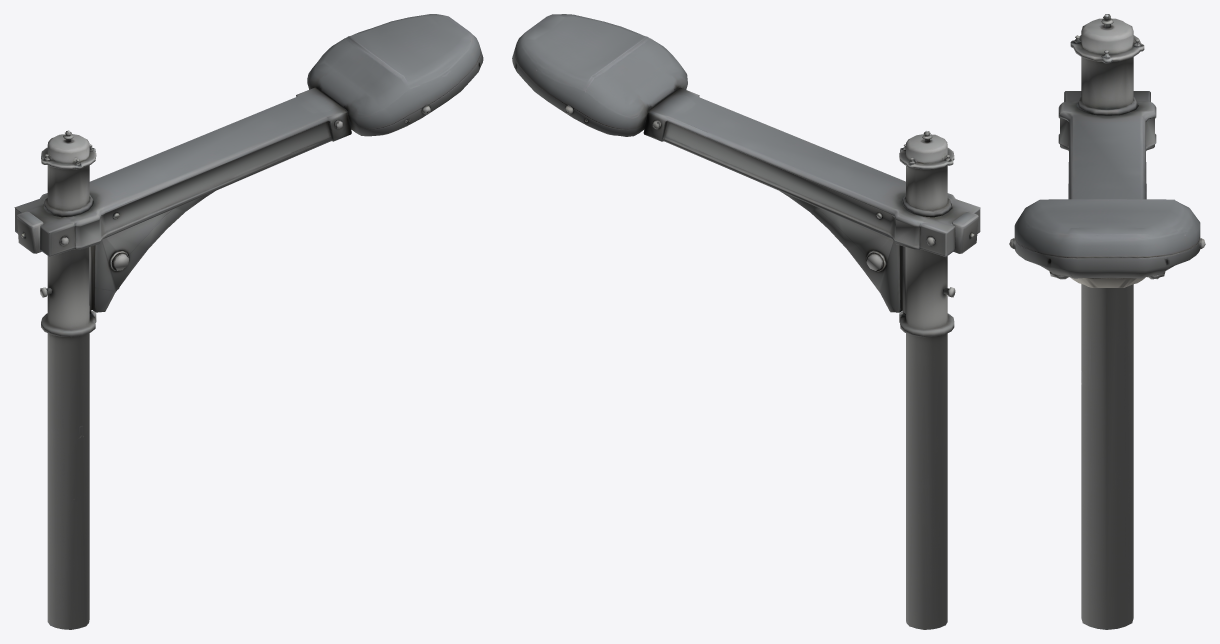
File: streetlight.glb
3 views of the same model, side by side, from view 1: azimuth 30°, elevation 25°; view 2: azimuth 150°, elevation 25°; view 3: azimuth 270°, elevation 25° (orthographic). The views are drawn at different scales.
Parts seen in each view (by area): view 1: tripo_node_11f70cc0-f40b-467c-90c0-643457e509fe; view 2: tripo_node_11f70cc0-f40b-467c-90c0-643457e509fe; view 3: tripo_node_11f70cc0-f40b-467c-90c0-643457e509fe.
Part boxes in pixels (x1,y1,x2,y2): tripo_node_11f70cc0-f40b-467c-90c0-643457e509fe: (14,14,483,629); tripo_node_11f70cc0-f40b-467c-90c0-643457e509fe: (512,14,980,629); tripo_node_11f70cc0-f40b-467c-90c0-643457e509fe: (1009,14,1205,629).
Bounding box in the file's own units: 4.2 × 4.5 × 1.29.
Materials: 1 (1 with a texture image).
